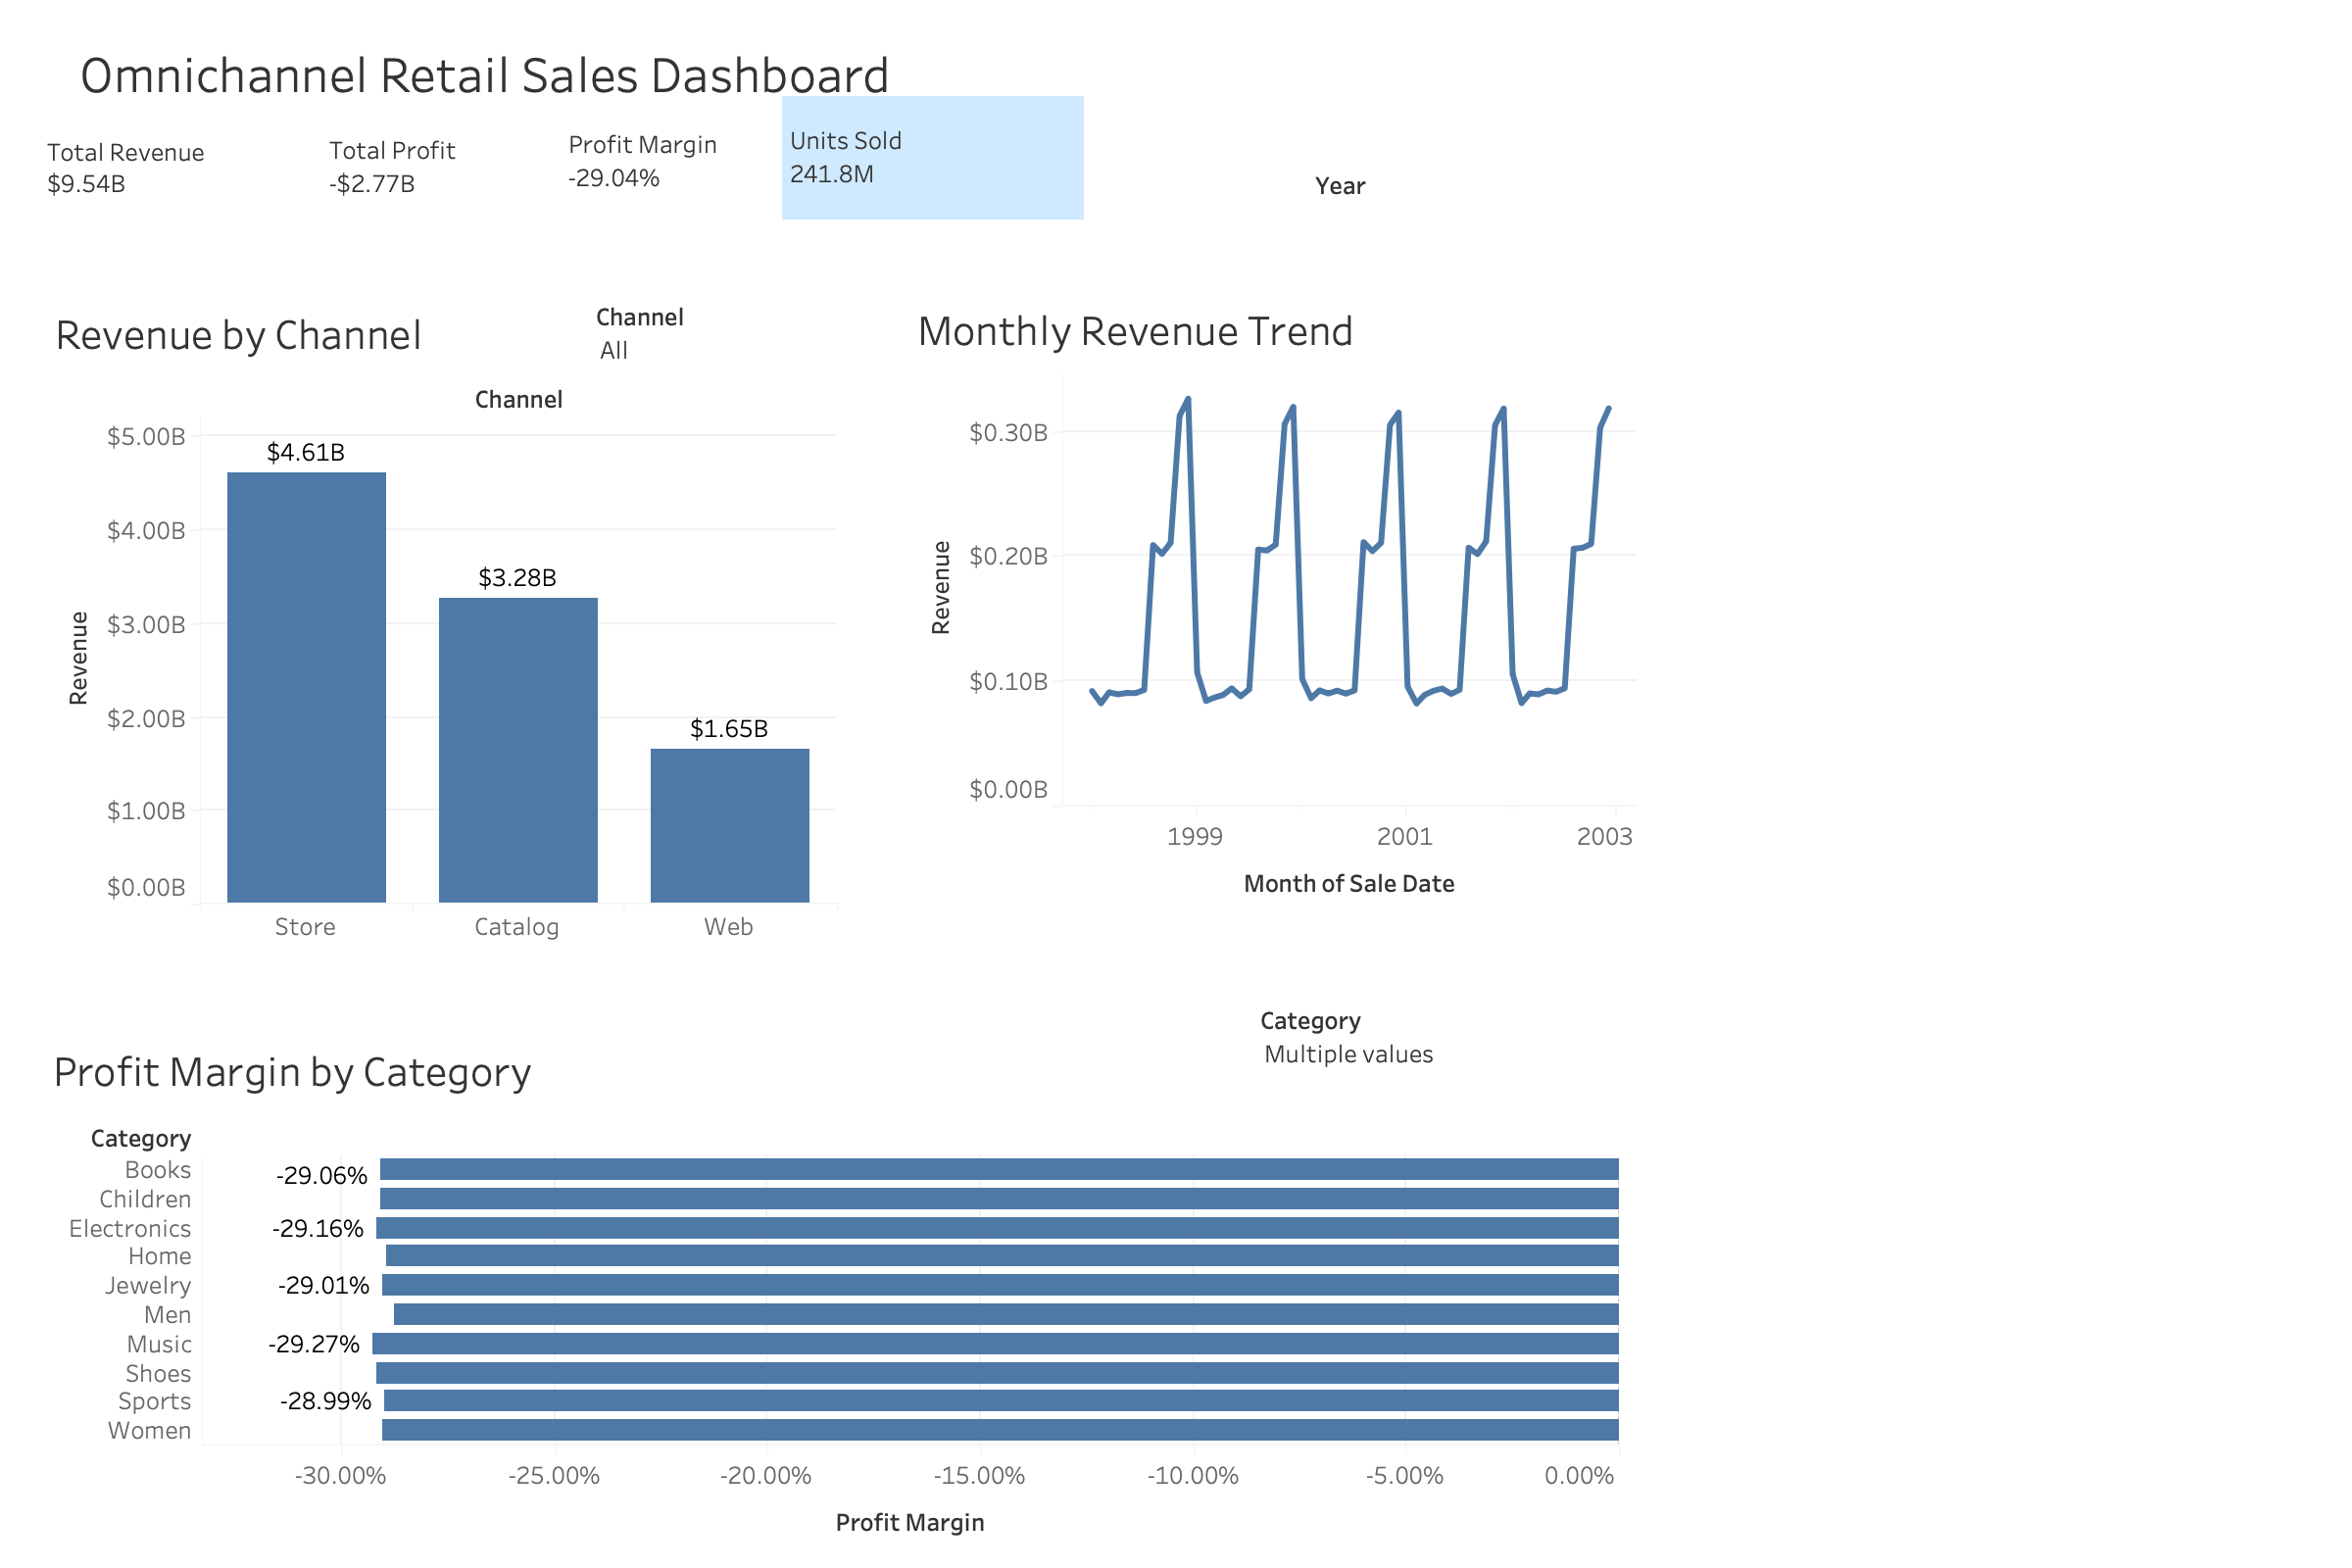

Layout of this report page (visuals, bound fields, positions):
{"tool":"tableau","page":{"name":"Omnichannel Retail Sales Dashboard","canvas":[1200,800],"ordinal":0},"visuals":[{"type":"title","box":[38,17,569,42]},{"type":"worksheet","title":"Profit Margin","mark":"Automatic","box":[286,32,196,101]},{"type":"worksheet","title":"Total Profit","mark":"Automatic","box":[164,40,174,91]},{"type":"worksheet","title":"Units Sold","mark":"Automatic","box":[399,49,154,63]},{"type":"worksheet","title":"Total Revenue","mark":"Automatic","box":[20,61,145,50]},{"type":"filter","title":"Monthly Revenue Trend","param":"[federated.1qxh6h10zbdz6d16eavzj0bfplkv].[none:year:qk]","box":[671,85,160,61]},{"type":"worksheet","title":"Monthly Revenue Trend","mark":"Line","rows":["revenue"],"cols":["sale_date"],"box":[464,148,371,318]},{"type":"worksheet","title":"Revenue by Channel","mark":"Automatic","rows":["revenue"],"cols":["channel"],"box":[24,150,403,332]},{"type":"filter","title":"Revenue by Channel","param":"[federated.1qxh6h10zbdz6d16eavzj0bfplkv].[none:channel:nk]","box":[304,152,160,100]},{"type":"filter","title":"Profit Margin by Category","param":"[federated.1qxh6h10zbdz6d16eavzj0bfplkv].[none:category:nk]","box":[643,511,160,252]},{"type":"worksheet","title":"Profit Margin by Category","mark":"Bar","rows":["category"],"cols":["Calculation_1405637270360064"],"box":[23,526,803,266]}]}

Visuals, with their boxes in screenshot pixels (x1, y1, x2, y2), scaled from the page's 1200x800 canvas onto the 2352x1568 screenshot:
title: x1=74, y1=33, x2=1190, y2=116
"Profit Margin" worksheet: x1=561, y1=63, x2=945, y2=261
"Total Profit" worksheet: x1=321, y1=78, x2=662, y2=257
"Units Sold" worksheet: x1=782, y1=96, x2=1084, y2=220
"Total Revenue" worksheet: x1=39, y1=120, x2=323, y2=218
"Monthly Revenue Trend" filter: x1=1315, y1=167, x2=1629, y2=286
"Monthly Revenue Trend" worksheet (Line marks): x1=909, y1=290, x2=1637, y2=913
"Revenue by Channel" worksheet: x1=47, y1=294, x2=837, y2=945
"Revenue by Channel" filter: x1=596, y1=298, x2=909, y2=494
"Profit Margin by Category" filter: x1=1260, y1=1002, x2=1574, y2=1495
"Profit Margin by Category" worksheet (Bar marks): x1=45, y1=1031, x2=1619, y2=1552
